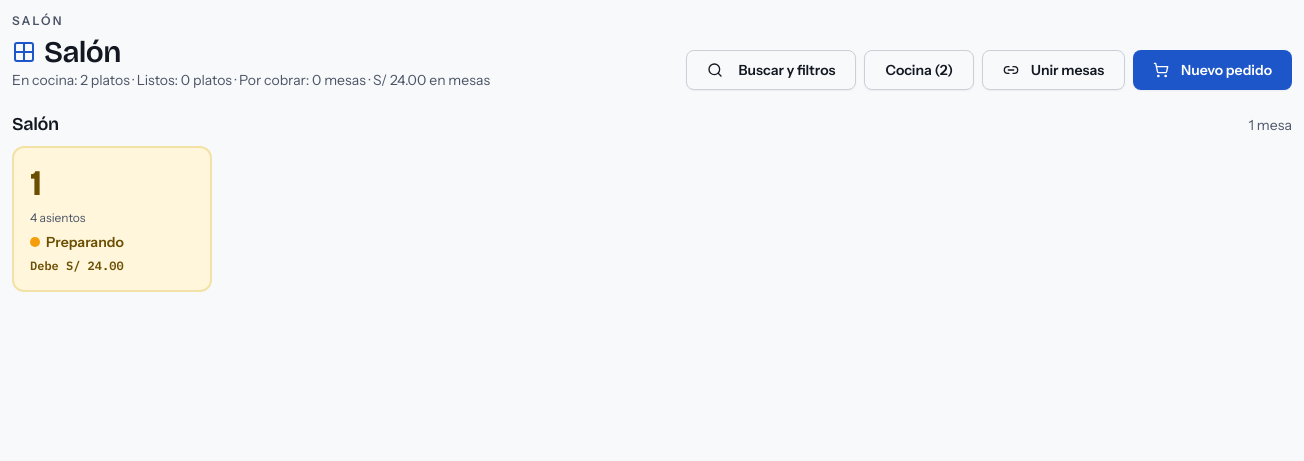
it: hoja de mesa · paridad del prototipo (Slice 2) › S2-3 el ✎ de cada tarjeta convive con la franja de persona
Click the element with test id "mesa-card-1" at [112, 219], box left=12, top=146, right=212, bottom=292
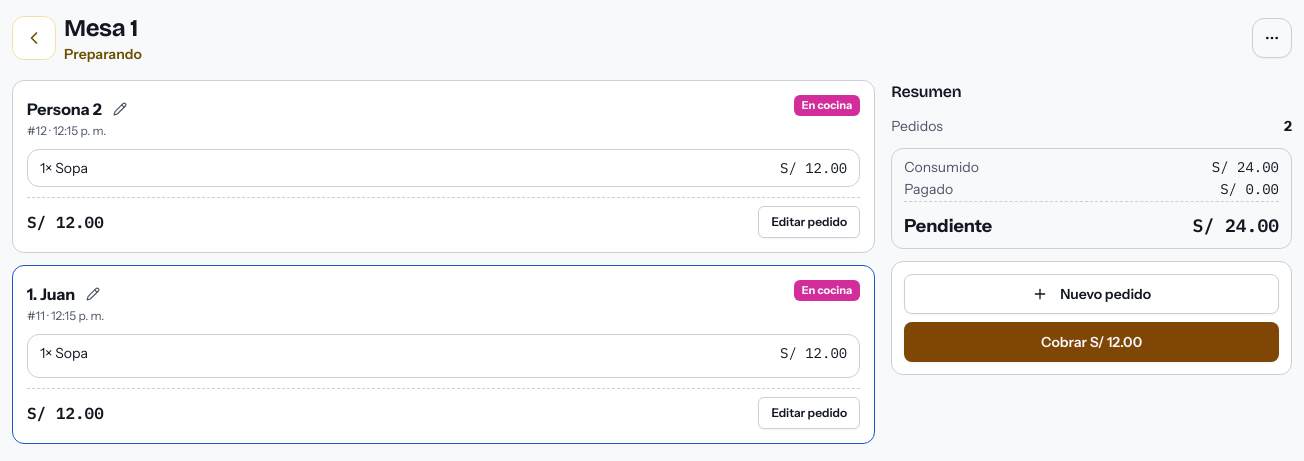
Expected: the button with test id "mesa-sheet-renombrar-11" is shown, left=79, top=280, right=107, bottom=308
Expected: the button with test id "mesa-sheet-renombrar-12" is shown, left=106, top=95, right=134, bottom=123
